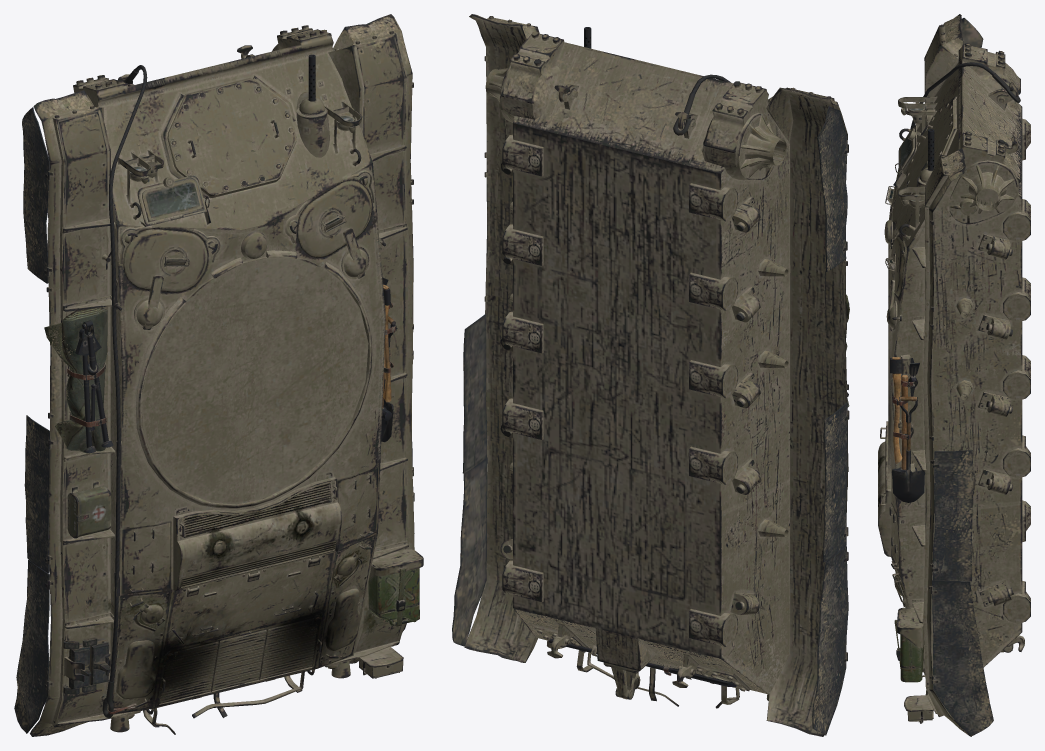
File: Hull.glb
3 views of the same model, side by side, from view 1: azimuth 30°, elevation 25°; view 2: azimuth 150°, elevation 25°; view 3: azimuth 270°, elevation 25° (orthographic). The views are drawn at different scales.
Parts seen in each view (by area): view 1: set_0_group_0; view 2: set_0_group_0; view 3: set_0_group_0.
Boxes of the visible parts, x1,y1,x2,y2 form: set_0_group_0: (14,14,423,736); set_0_group_0: (452,14,849,736); set_0_group_0: (878,14,1030,736).
Size of the model in its own units: 3.02 by 5.12 by 1.21.
1 material, 1 textured.
